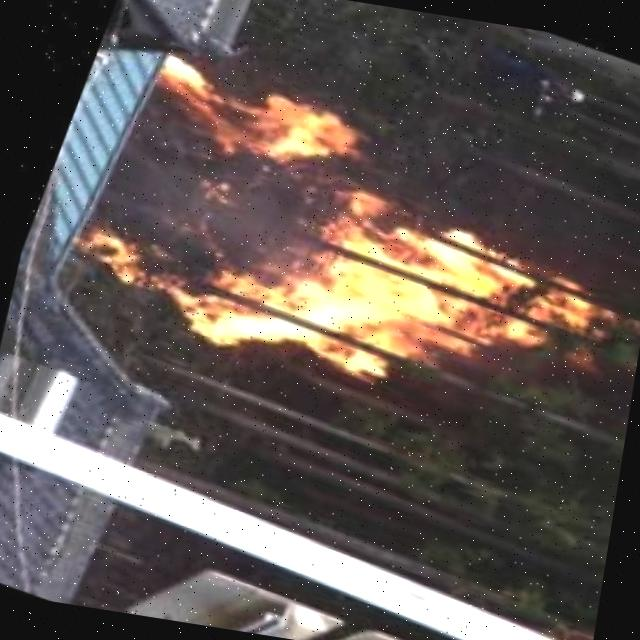fire: (43, 41, 640, 459)
